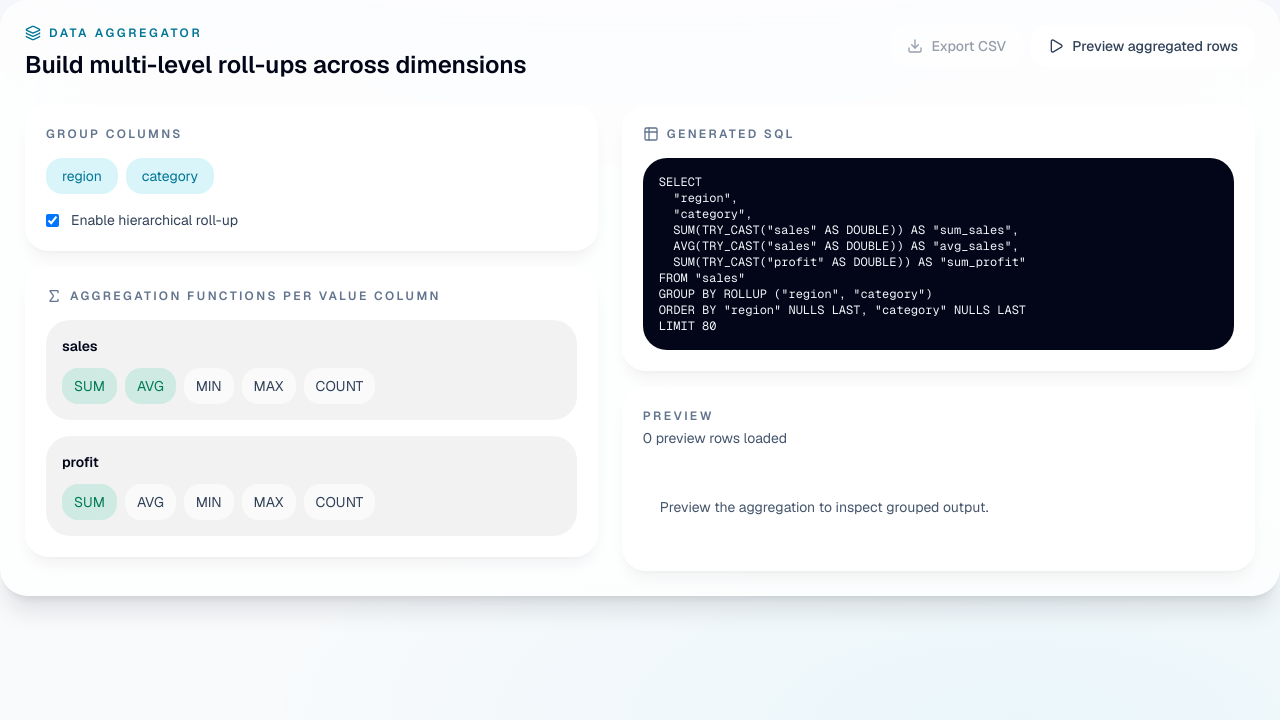
Test: DataAggregator › adds COUNT aggregation to the generated SQL when enabled
The image size is (1280, 720).
Click the 1st button "COUNT" at (339, 386), box x1=304 y1=368 x2=375 y2=404
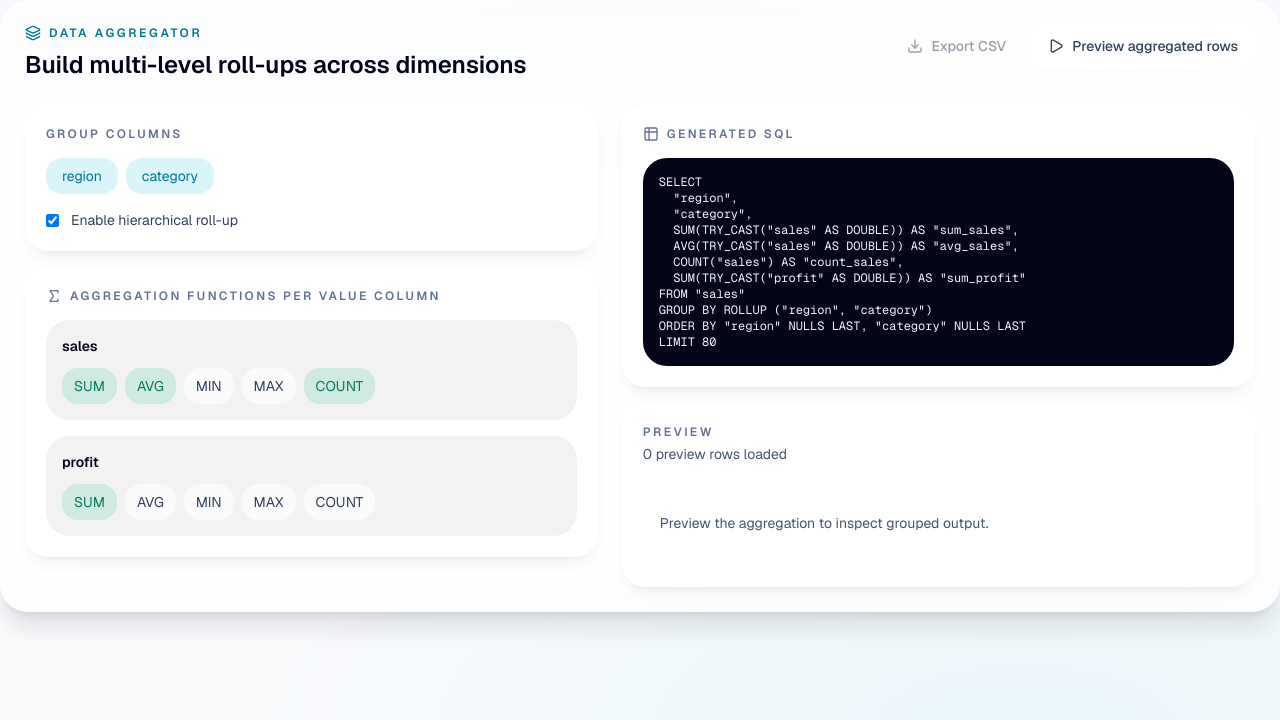
expect the text "COUNT(\"sales\") AS \"count_sales\"" is shown: met, box x1=659 y1=174 x2=1026 y2=350
